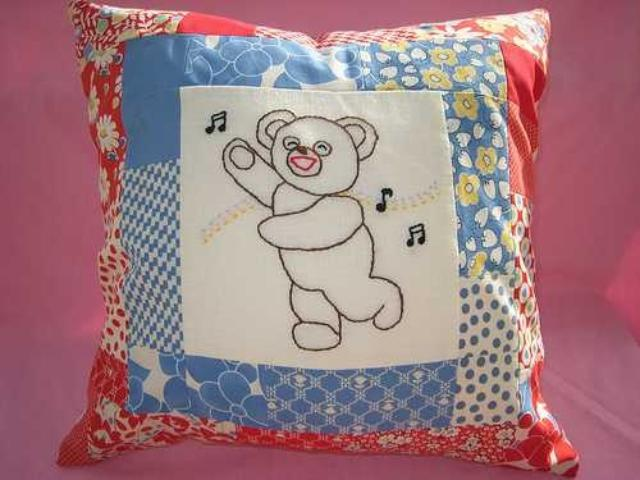pillow: (54, 0, 578, 474)
